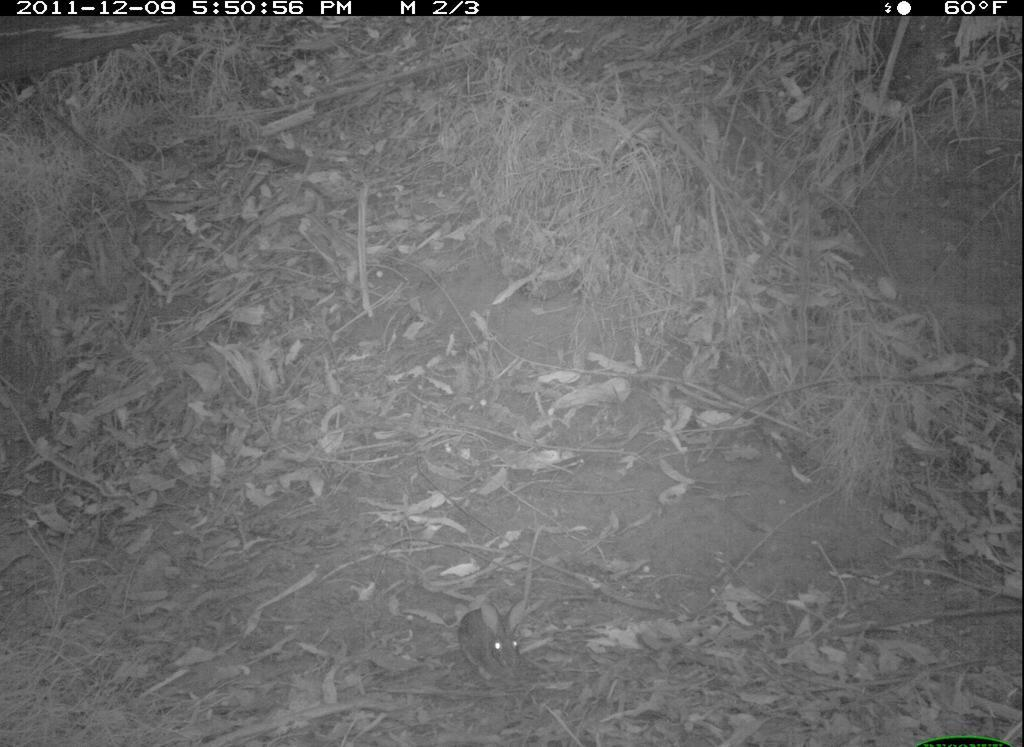rabbit: (454, 593, 538, 698)
